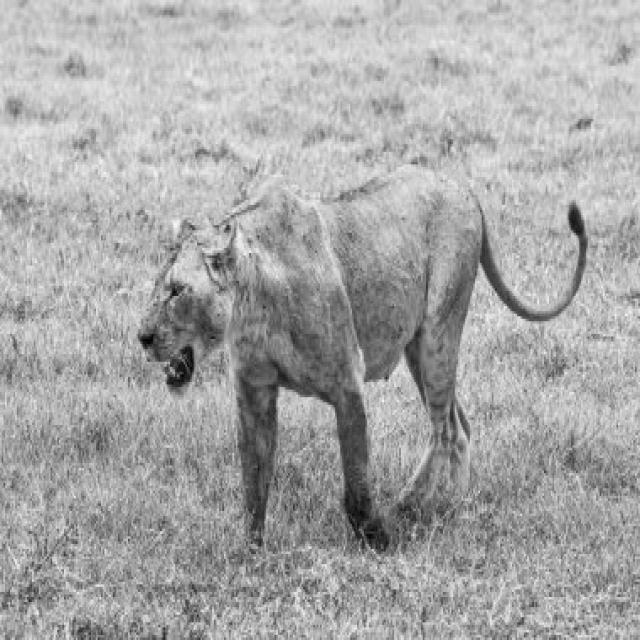Animal: (139, 156, 602, 541)
